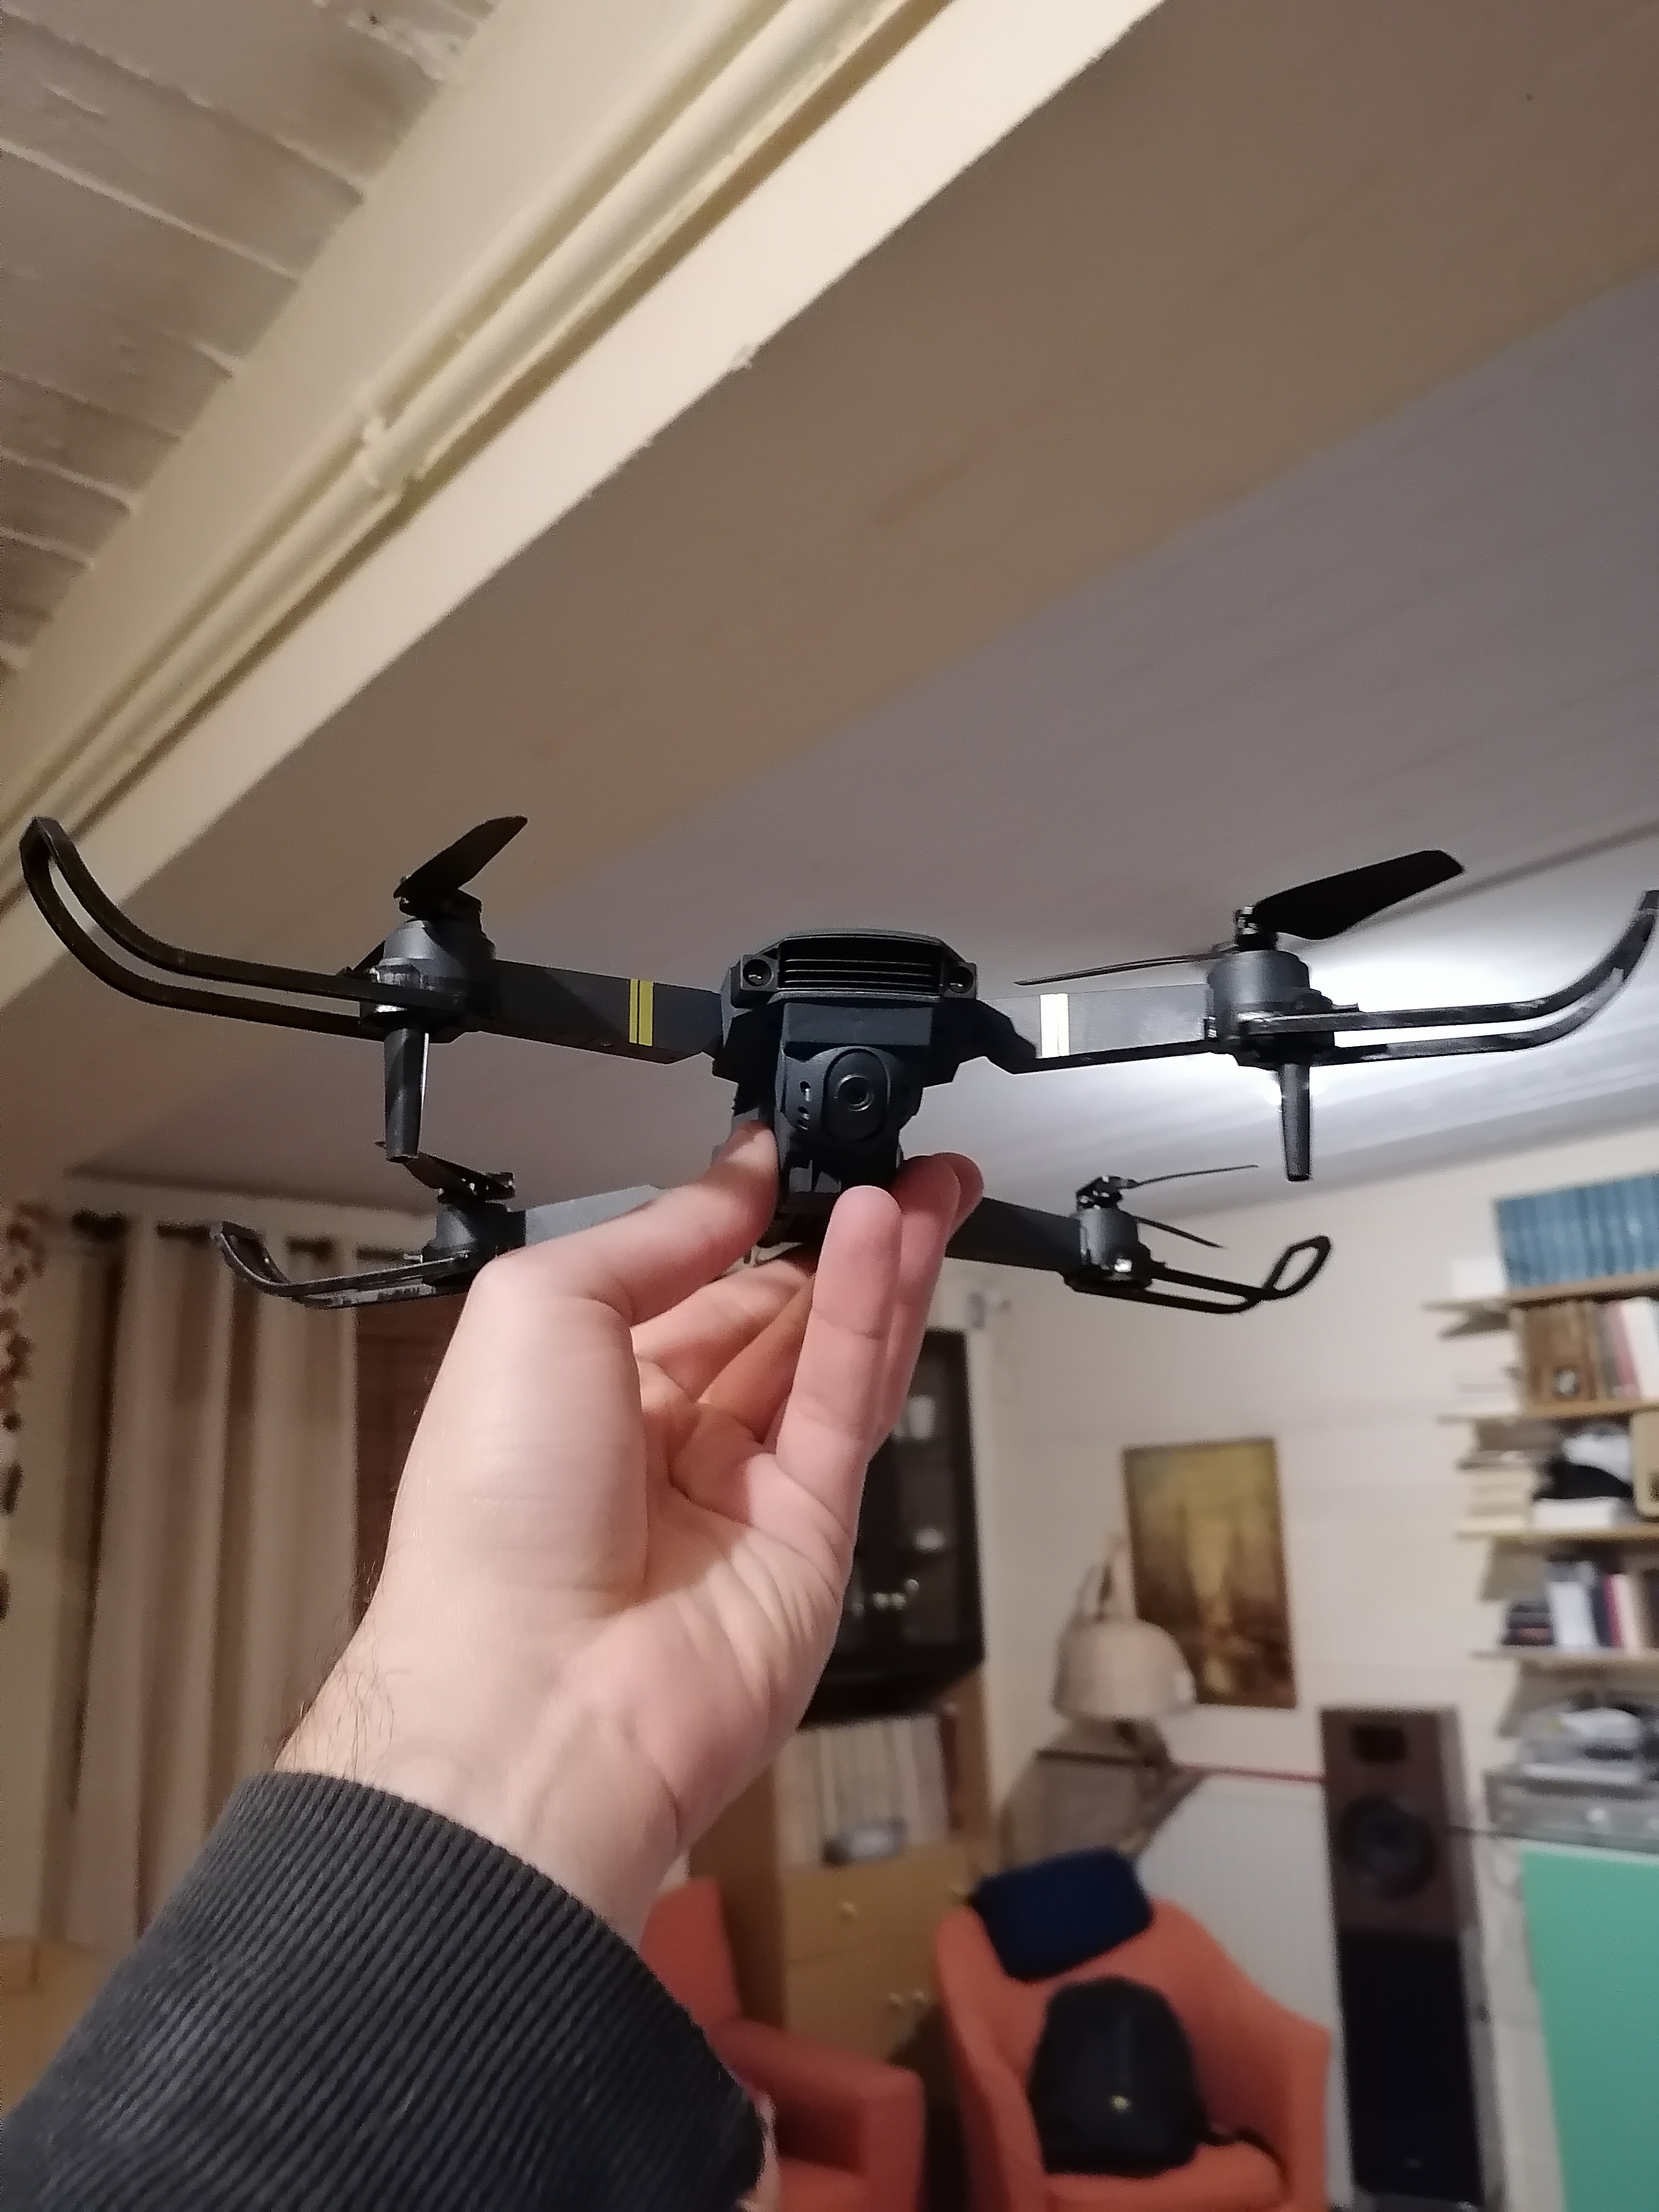drone: (9, 763, 1659, 1414)
